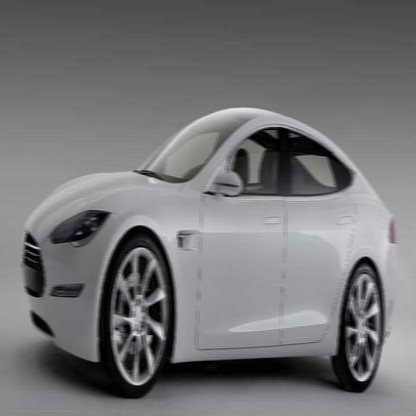Vehicle: (19, 90, 408, 406)
